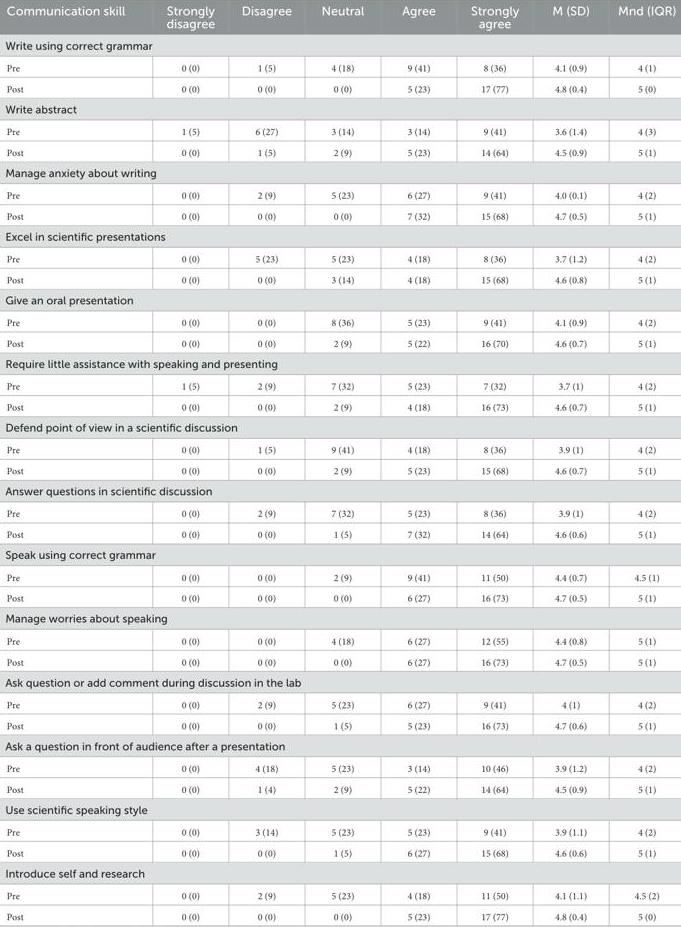table: (4, 5, 675, 922)
table column: (4, 5, 145, 922), (452, 5, 535, 922), (145, 5, 227, 922), (227, 5, 306, 922), (306, 5, 382, 922), (603, 5, 675, 922), (382, 5, 452, 922), (535, 5, 603, 922)
table column header: (4, 5, 675, 35)
table projected row header: (4, 735, 675, 758), (4, 35, 675, 57), (4, 99, 675, 121), (4, 162, 675, 184), (4, 226, 675, 248), (4, 290, 675, 312), (4, 353, 675, 375), (4, 417, 675, 439), (4, 481, 675, 503), (4, 544, 675, 566), (4, 608, 675, 630), (4, 672, 675, 694), (4, 799, 675, 821), (4, 863, 675, 885)
table row: (4, 5, 675, 35), (4, 735, 675, 758), (4, 35, 675, 57), (4, 99, 675, 121), (4, 162, 675, 184), (4, 184, 675, 206), (4, 226, 675, 248), (4, 248, 675, 270), (4, 290, 675, 312), (4, 353, 675, 375), (4, 375, 675, 397), (4, 417, 675, 439), (4, 439, 675, 461), (4, 481, 675, 503), (4, 544, 675, 566), (4, 566, 675, 588), (4, 608, 675, 630), (4, 630, 675, 652), (4, 672, 675, 694), (4, 799, 675, 821), (4, 821, 675, 843), (4, 863, 675, 885), (4, 57, 675, 78), (4, 78, 675, 99), (4, 121, 675, 142), (4, 312, 675, 333), (4, 503, 675, 524), (4, 694, 675, 715), (4, 758, 675, 779), (4, 885, 675, 906), (4, 142, 675, 162), (4, 206, 675, 226), (4, 270, 675, 290), (4, 333, 675, 353), (4, 397, 675, 417), (4, 461, 675, 481), (4, 524, 675, 544), (4, 588, 675, 608), (4, 652, 675, 672), (4, 715, 675, 735), (4, 779, 675, 799), (4, 843, 675, 863), (4, 906, 675, 922)
